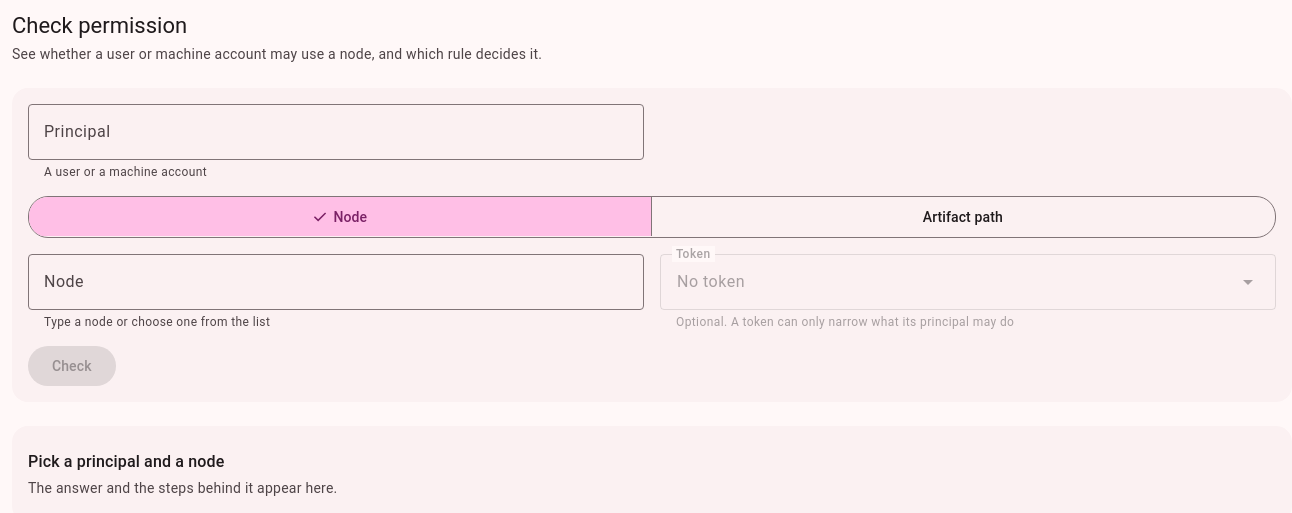
CheckPermissionView › the pickers › takes a node from the list on click
This screenshot has width=1292, height=513.
Type "releases" into the dropdown labelled "Node" at point(336, 282), box x1=28 y1=254 x2=644 y2=310
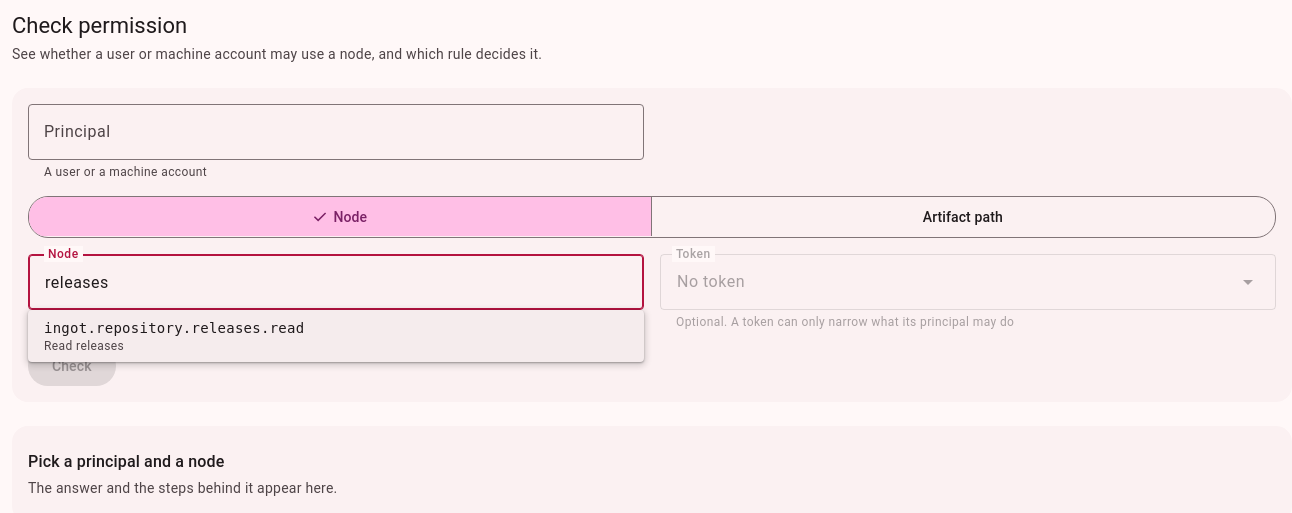
Click the option with test id "option" at point(174, 336), box x1=44 y1=320 x2=304 y2=353
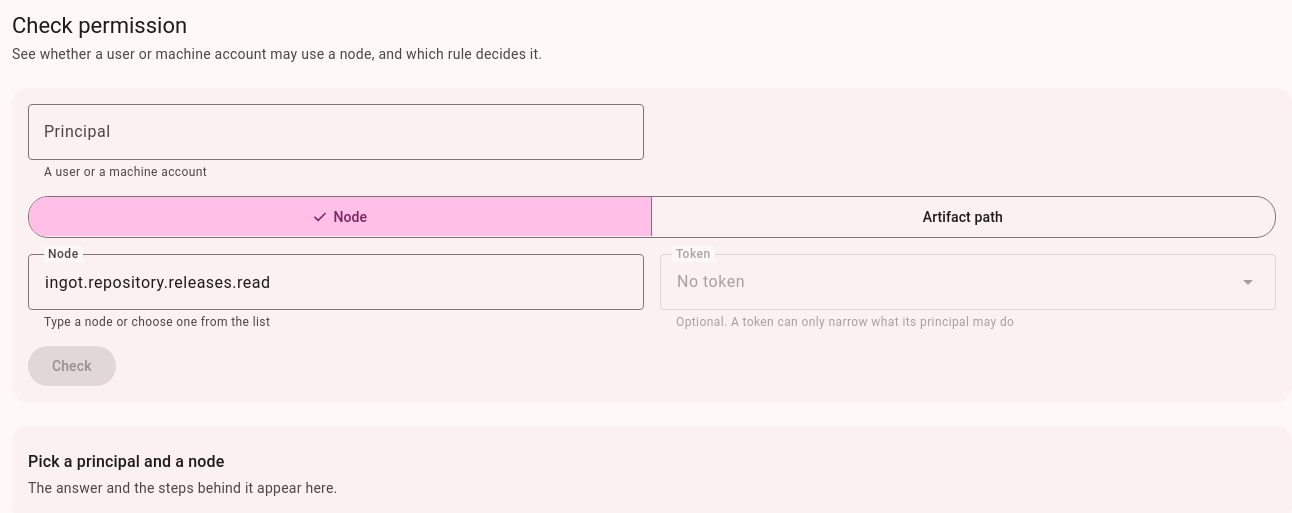
Result: the dropdown labelled "Node" holds "ingot.repository.releases.read" at x1=28 y1=254 x2=644 y2=310
